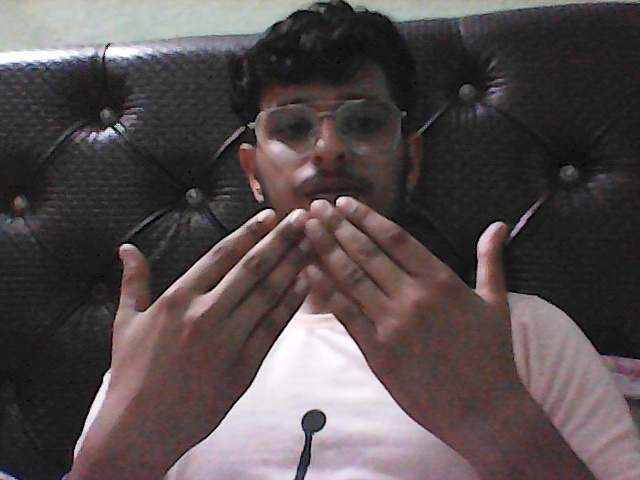thankyou: (85, 187, 522, 440)
